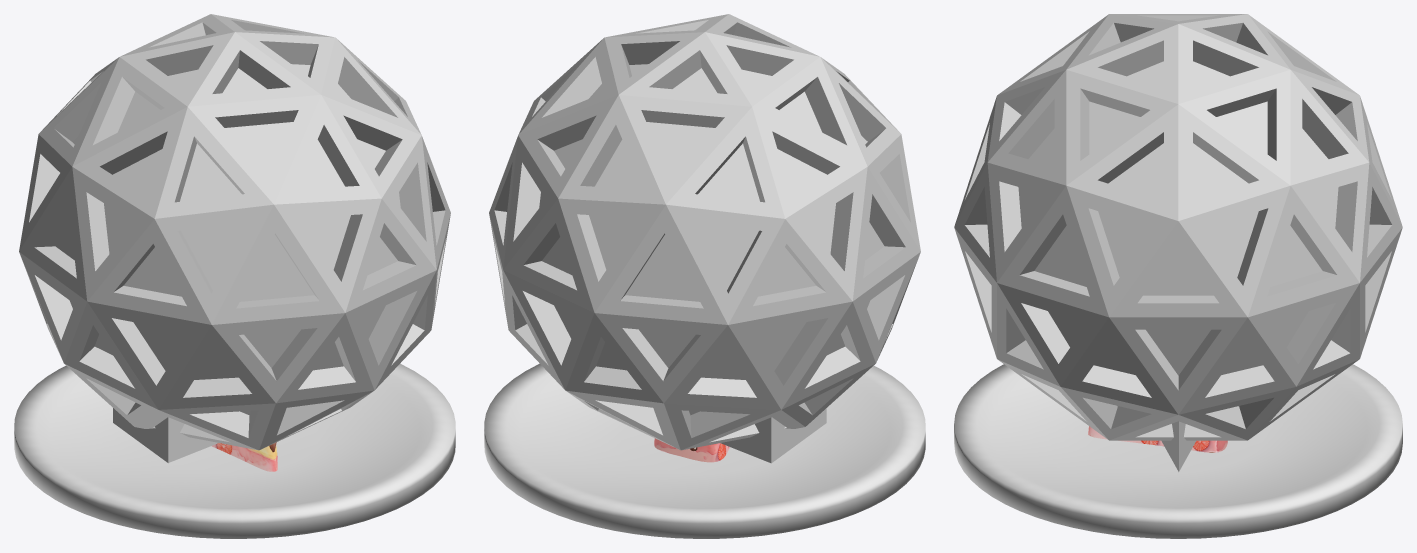
Rendered from cake.glb.
3 renders of one model, left to right at view 1: azimuth 30°, elevation 25°; view 2: azimuth 150°, elevation 25°; view 3: azimuth 270°, elevation 25°, orthographic.
Parts seen in each view (by area): view 1: Icosphere, Cylinder, cake001; view 2: Icosphere, Cylinder, cake001; view 3: Icosphere, Cylinder, cake001.
Part boxes in pixels (bbox=[...]): Icosphere: bbox=[19, 14, 450, 450]; Cylinder: bbox=[14, 363, 455, 538]; cake001: bbox=[211, 443, 277, 471]; Icosphere: bbox=[489, 14, 920, 450]; Cylinder: bbox=[484, 363, 925, 538]; cake001: bbox=[654, 438, 729, 462]; Icosphere: bbox=[954, 14, 1402, 440]; Cylinder: bbox=[954, 364, 1402, 538]; cake001: bbox=[1088, 426, 1227, 452].
Bounding box in the file's own units: 2 × 2.15 × 2.
Materials: 2 (1 with a texture image).
